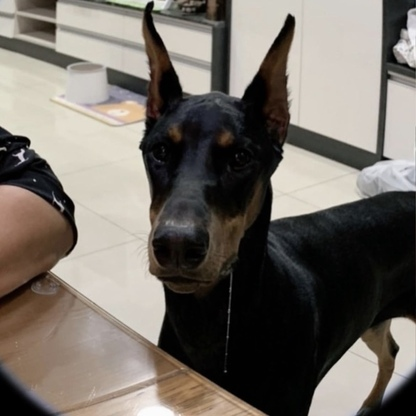doberman: (132, 6, 416, 409)
